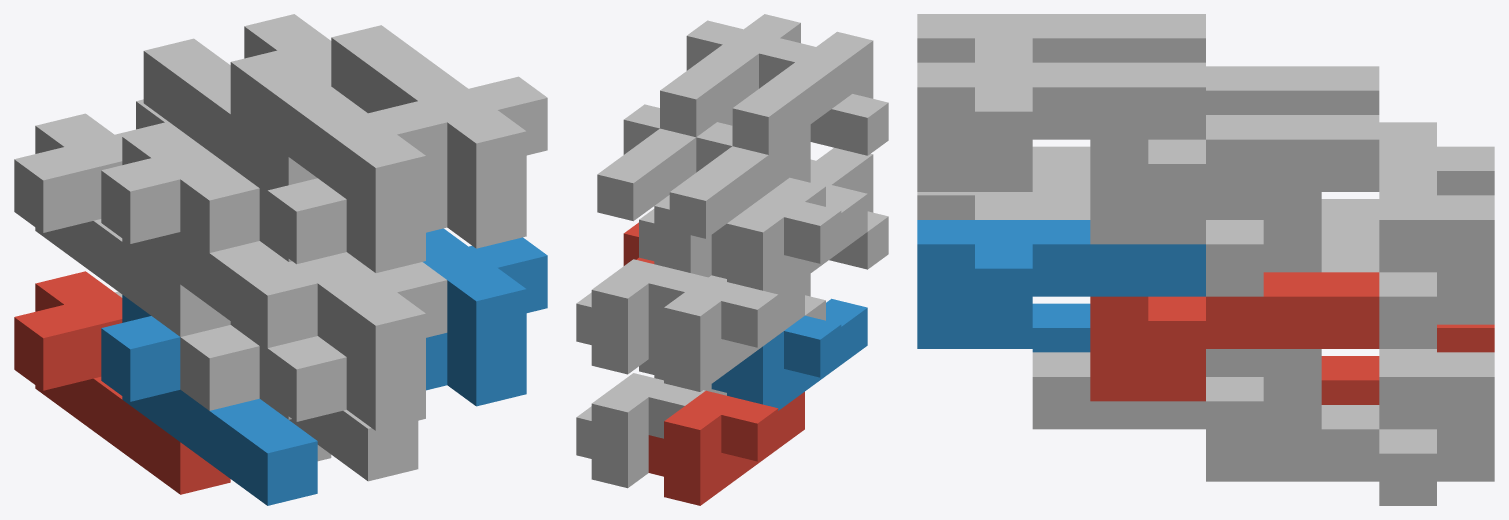
The model's file is tiling.obj.
3 renders of one model, left to right at view 1: azimuth 30°, elevation 25°; view 2: azimuth 150°, elevation 25°; view 3: azimuth 270°, elevation 25°, orthographic. The views are drawn at different scales.
Parts seen in each view (by area): view 1: copy_2_domain_4, copy_2_domain_8, copy_2_domain_2, copy_1_domain_4, copy_1_domain_2, copy_2_domain_3, copy_1_domain_1, copy_1_domain_3, copy_2_domain_6, copy_2_domain_1, copy_1_domain_6, copy_2_domain_7 (+1 smaller); view 2: copy_2_domain_4, copy_1_domain_1, copy_1_domain_3, copy_1_domain_4, copy_2_domain_3, copy_2_domain_8, copy_1_domain_2, copy_1_domain_7, copy_1_domain_5, copy_2_domain_7, copy_2_domain_2, copy_1_domain_8 (+3 smaller); view 3: copy_2_domain_8, copy_1_domain_5, copy_2_domain_7, copy_2_domain_6, copy_2_domain_5, copy_1_domain_7, copy_1_domain_6, copy_2_domain_4, copy_1_domain_8, copy_2_domain_3, copy_1_domain_3, copy_2_domain_2 (+4 smaller).
Part boxes in pixels (x1=…): copy_2_domain_4: x1=230, y1=49, x2=447, y2=272; copy_2_domain_8: x1=331, y1=25, x2=547, y2=248; copy_2_domain_2: x1=267, y1=253, x2=447, y2=430; copy_1_domain_4: x1=101, y1=124, x2=317, y2=347; copy_1_domain_2: x1=101, y1=295, x2=317, y2=505; copy_2_domain_3: x1=143, y1=38, x2=317, y2=261; copy_1_domain_1: x1=14, y1=271, x2=230, y2=494; copy_1_domain_3: x1=14, y1=113, x2=230, y2=336; copy_2_domain_6: x1=423, y1=228, x2=547, y2=406; copy_2_domain_1: x1=180, y1=321, x2=291, y2=419; copy_1_domain_6: x1=289, y1=410, x2=418, y2=481; copy_2_domain_7: x1=244, y1=14, x2=331, y2=85; copy_2_domain_4: x1=732, y1=31, x2=888, y2=155; copy_1_domain_1: x1=648, y1=390, x2=804, y2=505; copy_1_domain_3: x1=648, y1=277, x2=804, y2=391; copy_1_domain_4: x1=711, y1=185, x2=867, y2=296; copy_2_domain_3: x1=669, y1=122, x2=825, y2=238; copy_2_domain_8: x1=660, y1=14, x2=800, y2=137; copy_1_domain_2: x1=711, y1=298, x2=867, y2=410; copy_1_domain_7: x1=576, y1=259, x2=705, y2=374; copy_1_domain_5: x1=576, y1=373, x2=726, y2=488; copy_2_domain_7: x1=597, y1=104, x2=732, y2=221; copy_2_domain_2: x1=810, y1=147, x2=888, y2=269; copy_1_domain_8: x1=639, y1=195, x2=726, y2=277; copy_2_domain_8: x1=917, y1=62, x2=1205, y2=191; copy_1_domain_5: x1=1206, y1=349, x2=1494, y2=505; copy_2_domain_7: x1=1090, y1=115, x2=1379, y2=244; copy_2_domain_6: x1=917, y1=220, x2=1205, y2=348; copy_2_domain_5: x1=1090, y1=272, x2=1379, y2=401; copy_1_domain_7: x1=1321, y1=171, x2=1494, y2=348; copy_1_domain_6: x1=1032, y1=349, x2=1321, y2=453; copy_2_domain_4: x1=917, y1=14, x2=1205, y2=62; copy_1_domain_8: x1=1032, y1=192, x2=1321, y2=296; copy_2_domain_3: x1=1206, y1=66, x2=1379, y2=114; copy_1_domain_3: x1=1321, y1=122, x2=1494, y2=223; copy_2_domain_2: x1=917, y1=171, x2=1090, y2=219.
Size of the model in its own units: 6 by 8 by 10.
